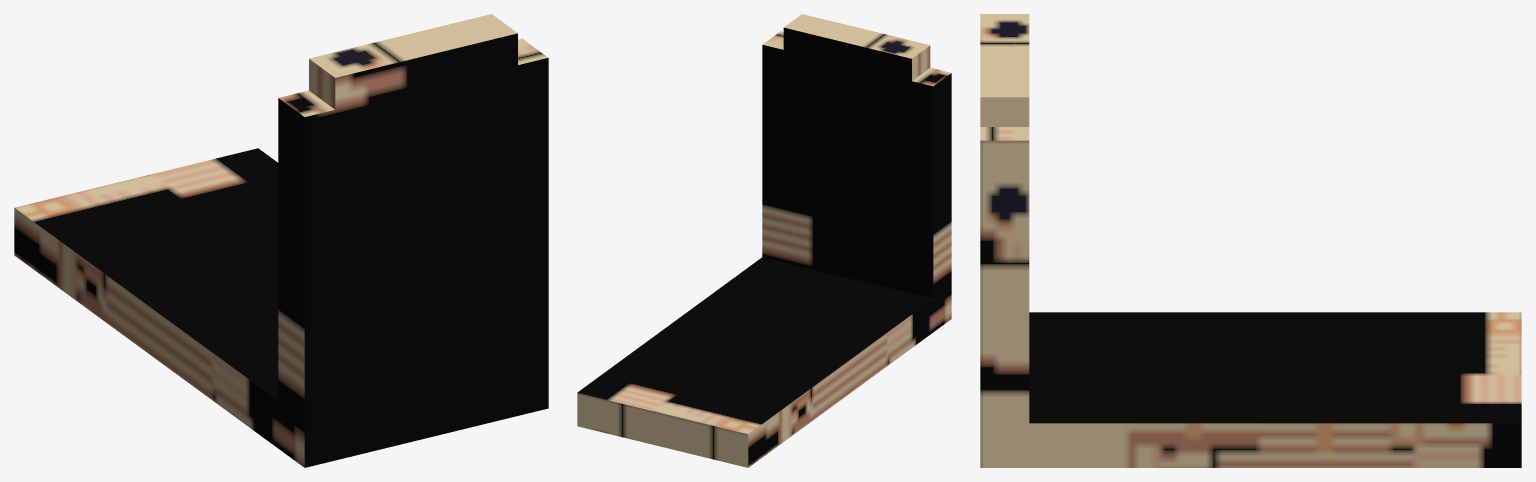
The model's file is grave.dae.
3 renders of one model, left to right at view 1: azimuth 30°, elevation 25°; view 2: azimuth 150°, elevation 25°; view 3: azimuth 270°, elevation 25°, orthographic. The views are drawn at different scales.
Parts seen in each view (by area): view 1: cuboid; view 2: cuboid; view 3: cuboid.
Part boxes in pixels (box(x1,y1,x2,y2)): cuboid: box(14, 14, 548, 467); cuboid: box(577, 14, 951, 467); cuboid: box(980, 14, 1521, 467).
Bounding box in the file's own units: 1 × 1.5 × 2.06.
